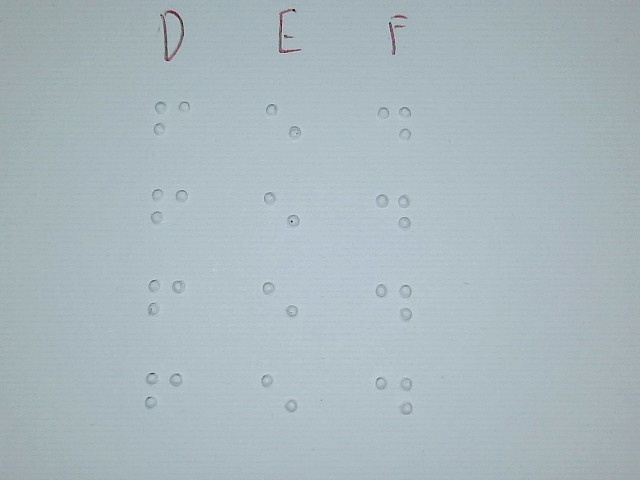D: (375, 95, 415, 161), (373, 183, 413, 249), (373, 273, 413, 339), (374, 366, 414, 432)
E: (264, 92, 304, 158), (262, 180, 302, 246), (261, 269, 301, 335), (259, 364, 299, 430)
F: (152, 87, 192, 153), (150, 175, 190, 241), (147, 266, 187, 332), (144, 359, 184, 425)
